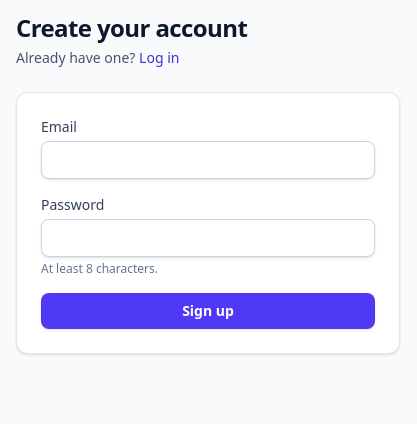
AuthForm › checks the password length before signing up
Type "new@b.co" into the field labelled "Email". click: (208, 160)
box: [41,141,375,179]
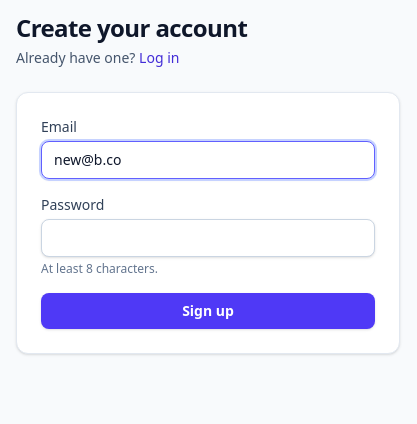
Type "short" into the password field labelled "Password At least 8 characters.". click: (208, 238)
box: [41,219,375,257]
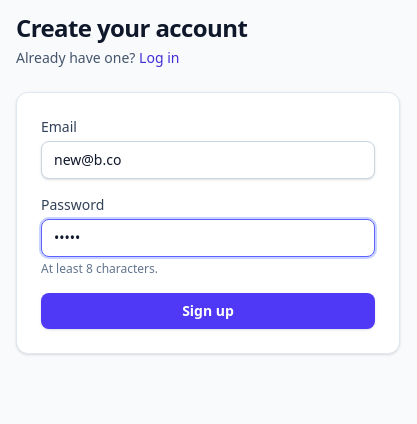
Click the button "Sign up". click: (208, 311)
box: [41,293,375,329]
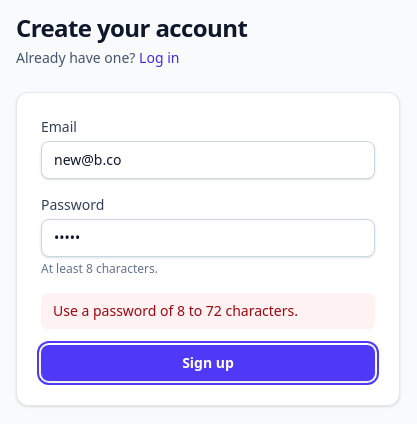
Expected: the message shows "8 to 72 characters", [53,301,298,320]
